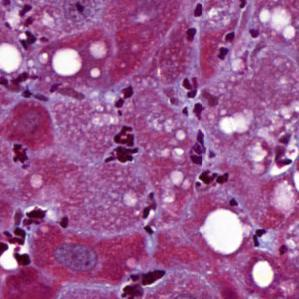inflammation: (102, 123, 143, 168), (114, 265, 168, 299), (180, 125, 214, 163)
